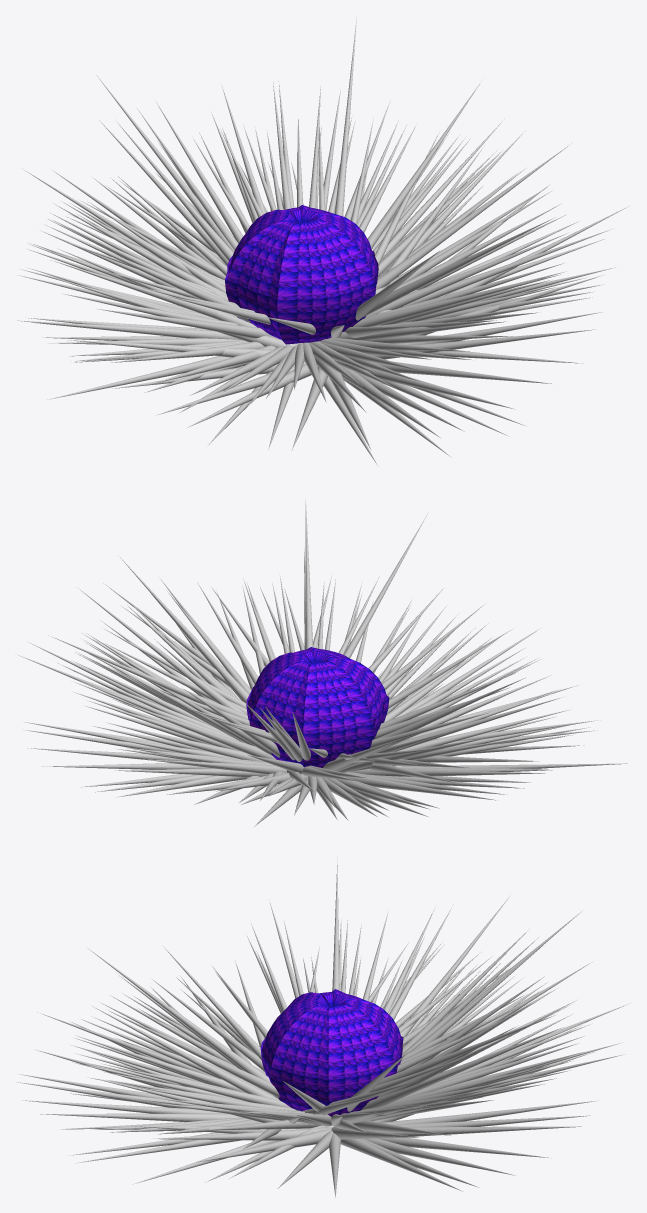
File: loveinamistseedling.dae
3 renders of one model, top to bottom at view 1: azimuth 30°, elevation 25°; view 2: azimuth 150°, elevation 25°; view 3: azimuth 270°, elevation 25°, orthographic. The views are drawn at different scales.
Parts seen in each view (by area): view 1: Sphere; view 2: Sphere; view 3: Sphere.
Part boxes in pixels (x1=…): Sphere: x1=17, y1=16, x2=628, y2=465; Sphere: x1=18, y1=498, x2=627, y2=827; Sphere: x1=16, y1=856, x2=630, y2=1197.
Size of the model in its own units: 2.07 by 2.02 by 0.7014.
